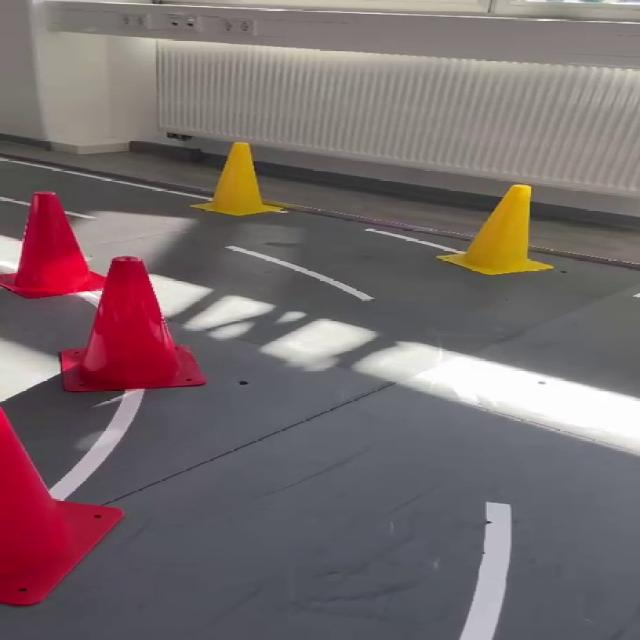Cone-red: (0, 192, 204, 392), (0, 408, 121, 605)
Cones-yellow: (439, 185, 552, 275), (192, 142, 288, 216)
